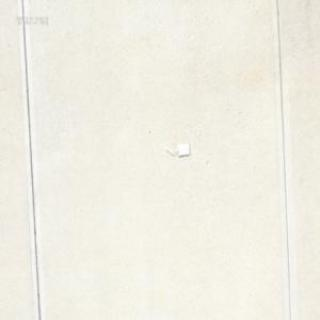LuggageTagtrack_idkeyframe: (163, 141, 189, 158)
